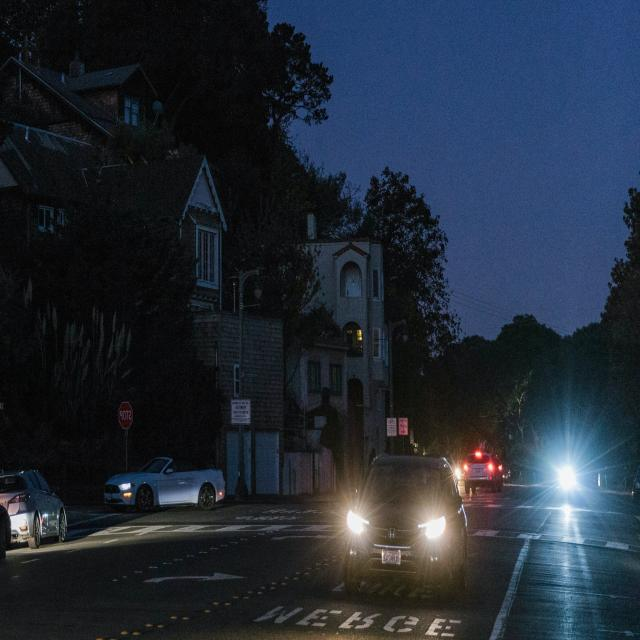headlights: (337, 507, 454, 551)
